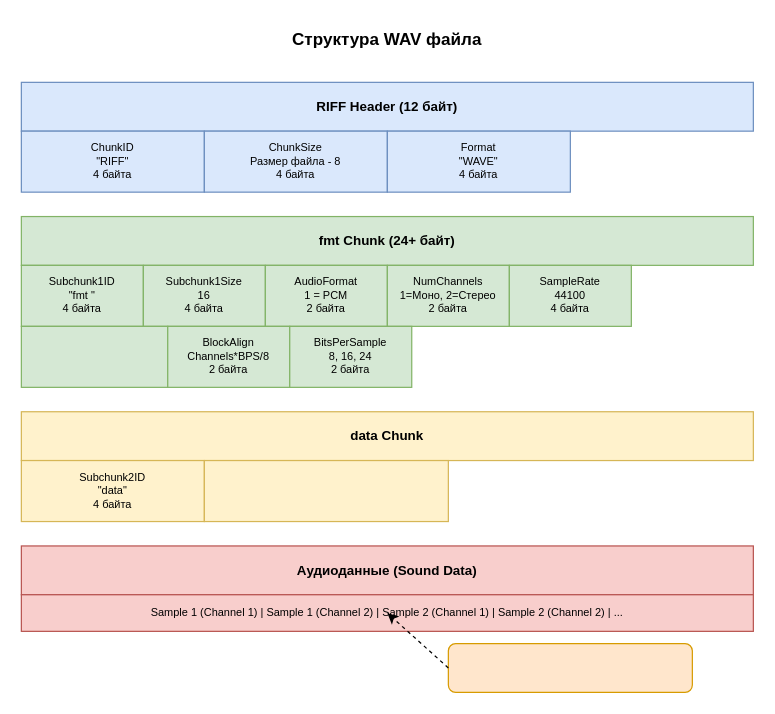
Image size: 775x714. Some labels were removed from this diagram. The centre of each missing label's shape, as x and y in pixels:
"ByteRate SampleRate*Channels*BPS/8 4 байта" goes at (94,356).
"Subchunk2Size NumSamples * NumChannels * BitsPerSample/8 4 байта" goes at (325,490).
"Место для встраивания информации (LSB стеганография)" goes at (569,667).
